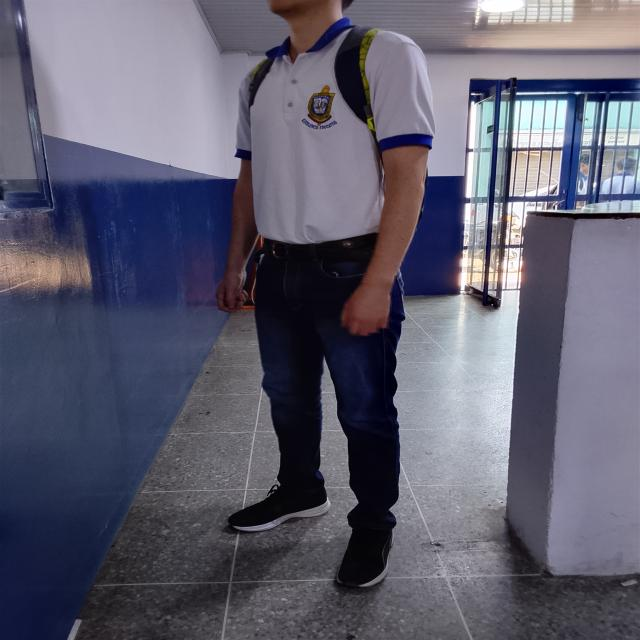pantalon_oscuro: (253, 251, 407, 531)
uniforme_superior: (233, 17, 437, 245)
